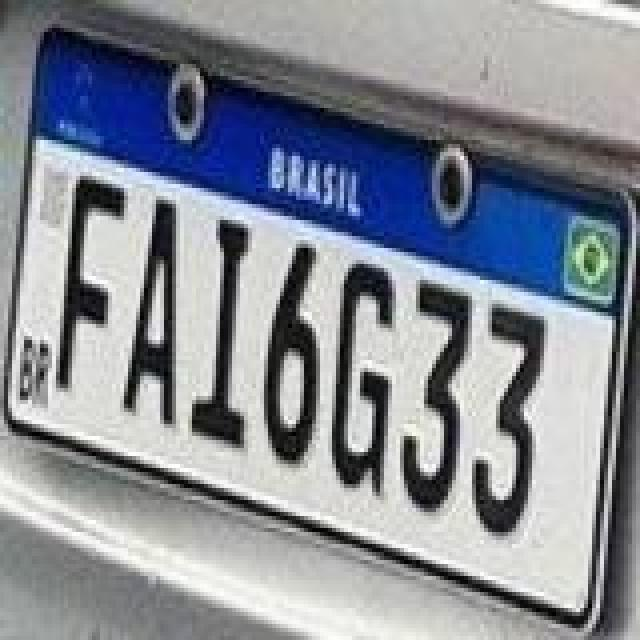3: (470, 296, 554, 544), (402, 276, 478, 516)
6: (260, 240, 324, 464)
A: (120, 194, 184, 430)
F: (54, 172, 130, 388)
G: (330, 260, 398, 500)
I: (188, 218, 252, 454)
